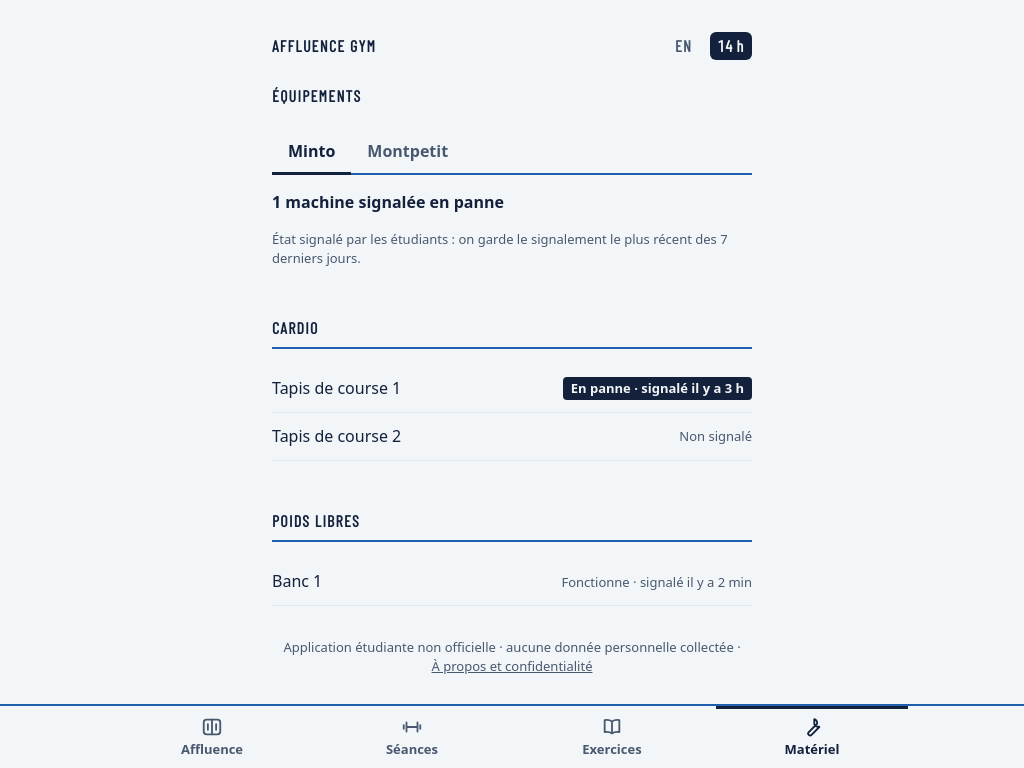
Scenario: équipements › passe d'une salle à l'autre et dit quand rien n'est signalé
Expected: the text "1 machine signalée en panne" is shown, [272,191,504,213]
Click the tab "Montpetit".
click(408, 153)  # box [351,131,464,175]
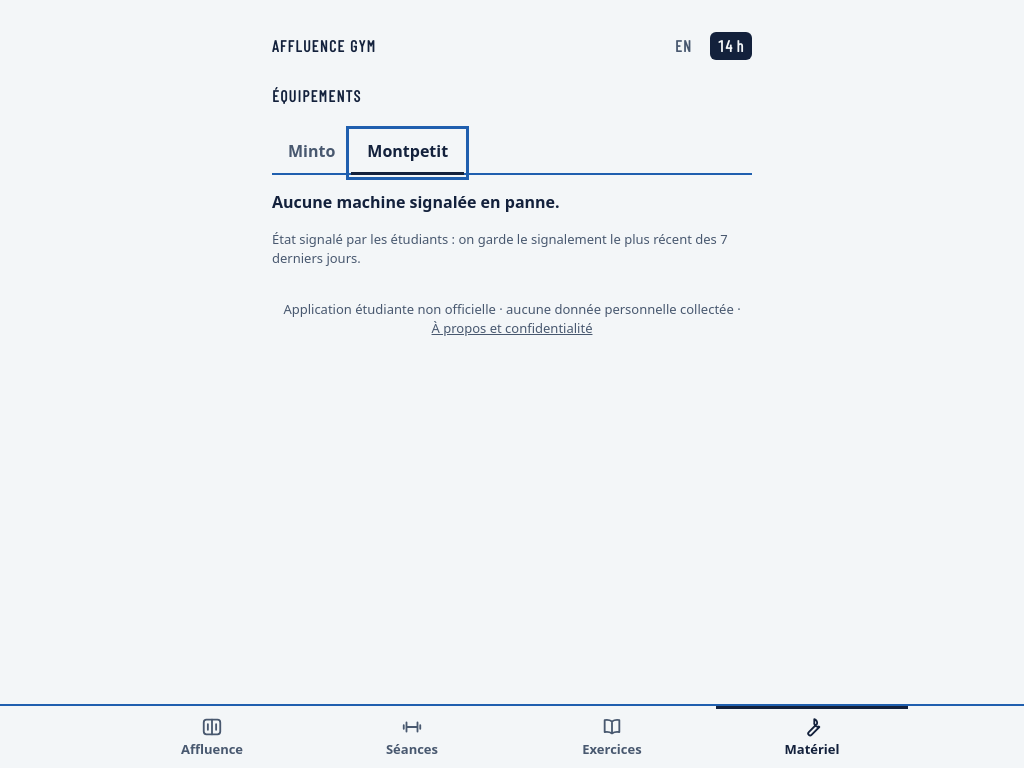
Expected: the text "Aucune machine signalée en panne." is shown, [272,191,560,213]
